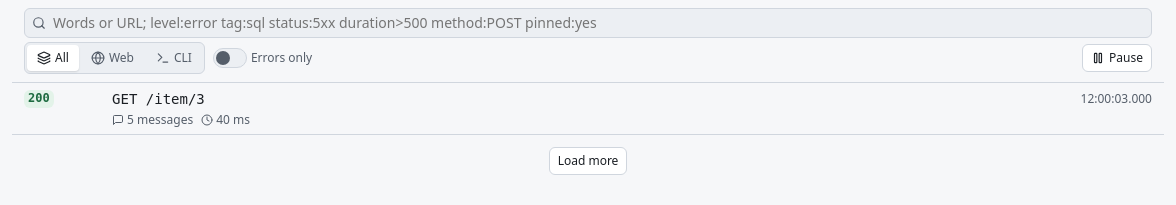
RequestList › loads the next page
The width and height of the screenshot is (1176, 205).
What coordinates should you click on to do the following:
click the button "Load more"
I would click on:
 (588, 161)
Its box is [549,147,627,175].
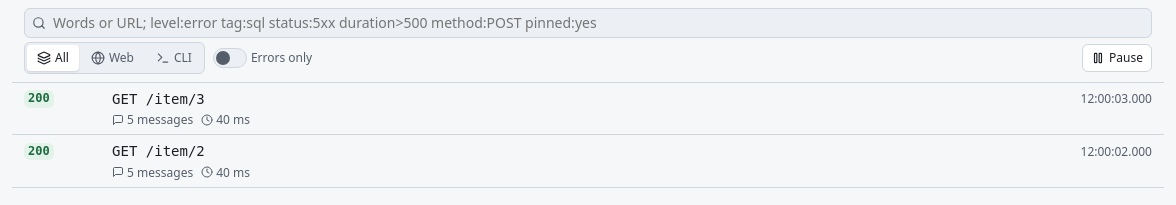
Expected: the number of list items is 2, [12,83,1164,135]; [12,135,1164,188]
Expected: the button "Load more" is gone
